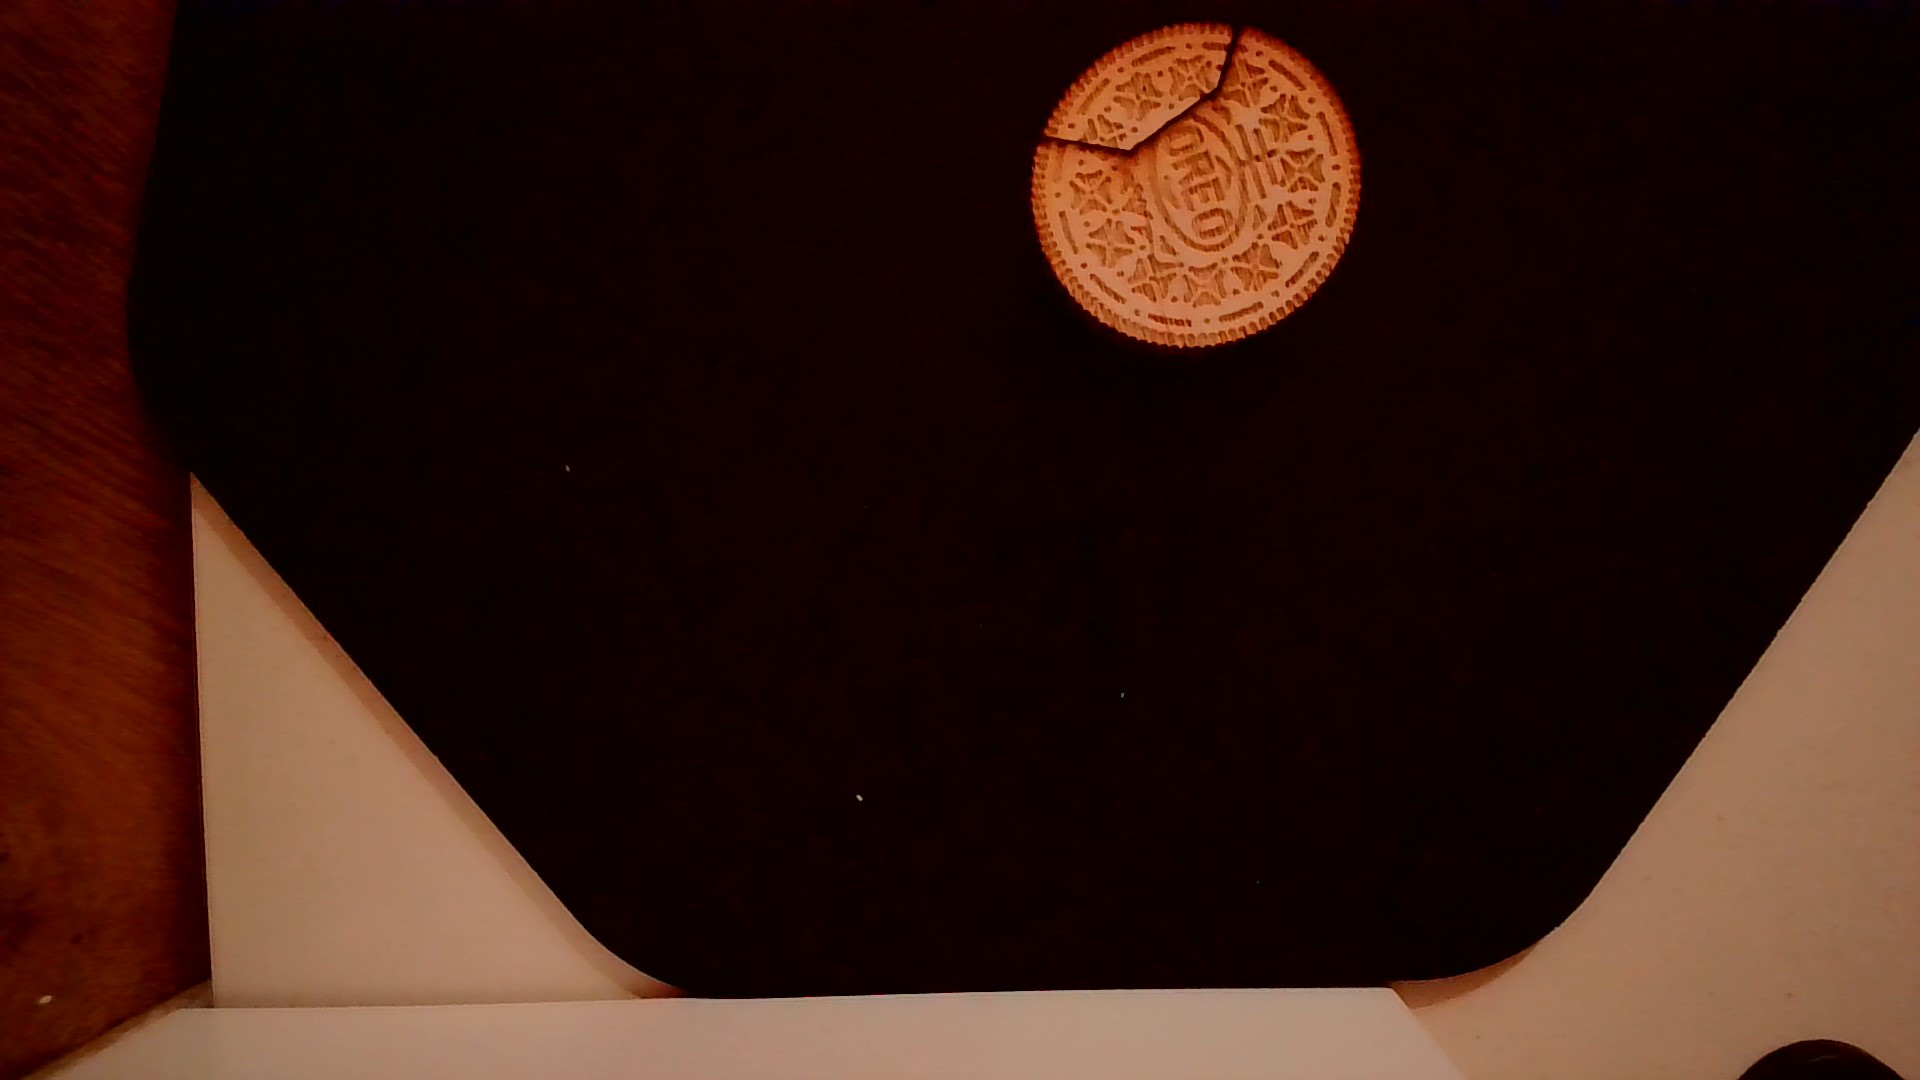Fissure: (1029, 15, 1255, 164)
Oréo: (1021, 16, 1365, 353)
